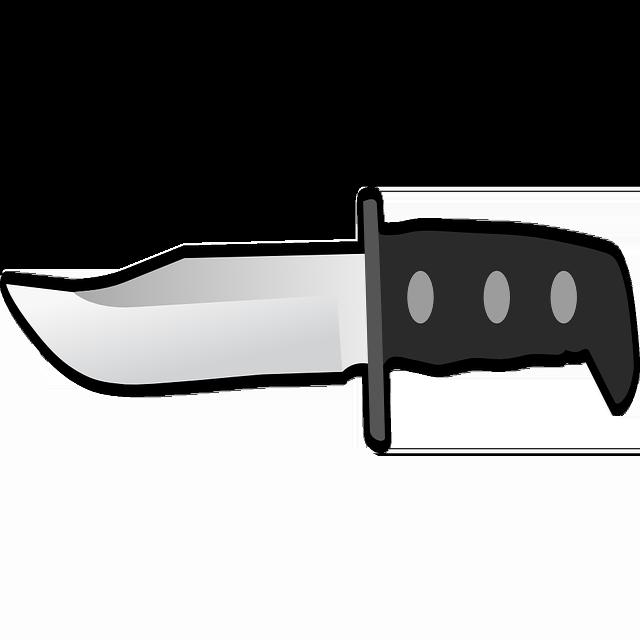Knife: (0, 187, 640, 454)
